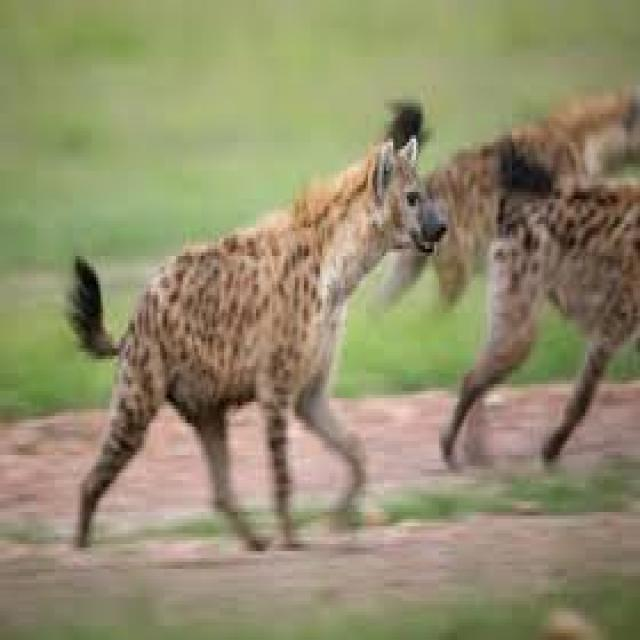Hyena: (68, 132, 442, 555)
